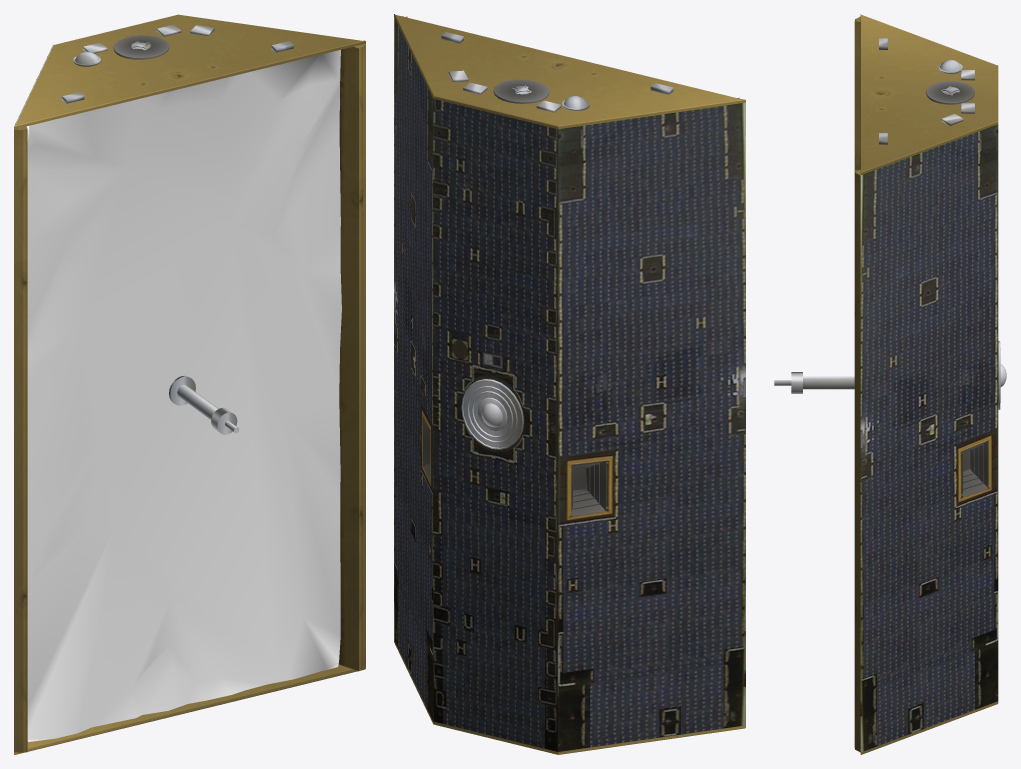
Rendered from grace.glb.
3 renders of one model, left to right at view 1: azimuth 30°, elevation 25°; view 2: azimuth 150°, elevation 25°; view 3: azimuth 270°, elevation 25°, orthographic. The views are drawn at different scales.
Parts seen in each view (by area): view 1: foil_silver, BUS; view 2: shiny_panel, BUS; view 3: shiny_panel, BUS.
Part boxes in pixels (x1,y1,x2,y2): foil_silver: (27, 50, 341, 741); BUS: (14, 14, 365, 754); shiny_panel: (394, 17, 745, 751); BUS: (394, 14, 745, 754); shiny_panel: (860, 124, 998, 752); BUS: (774, 14, 1006, 754).
Size of the model in its own units: 1.89 by 3.29 by 1.17.
3 materials, 2 textured.
